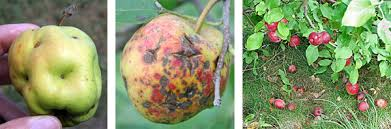damaged_apple: (120, 17, 234, 117), (8, 29, 102, 113)
